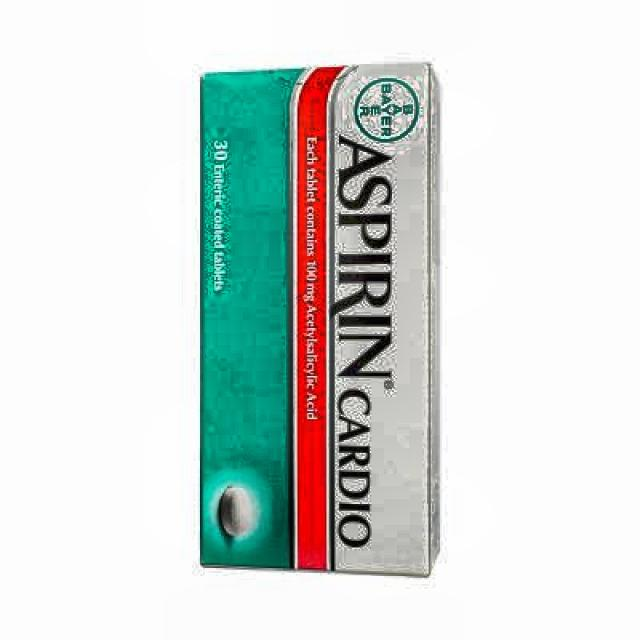Aspirin: (330, 128, 420, 560)
